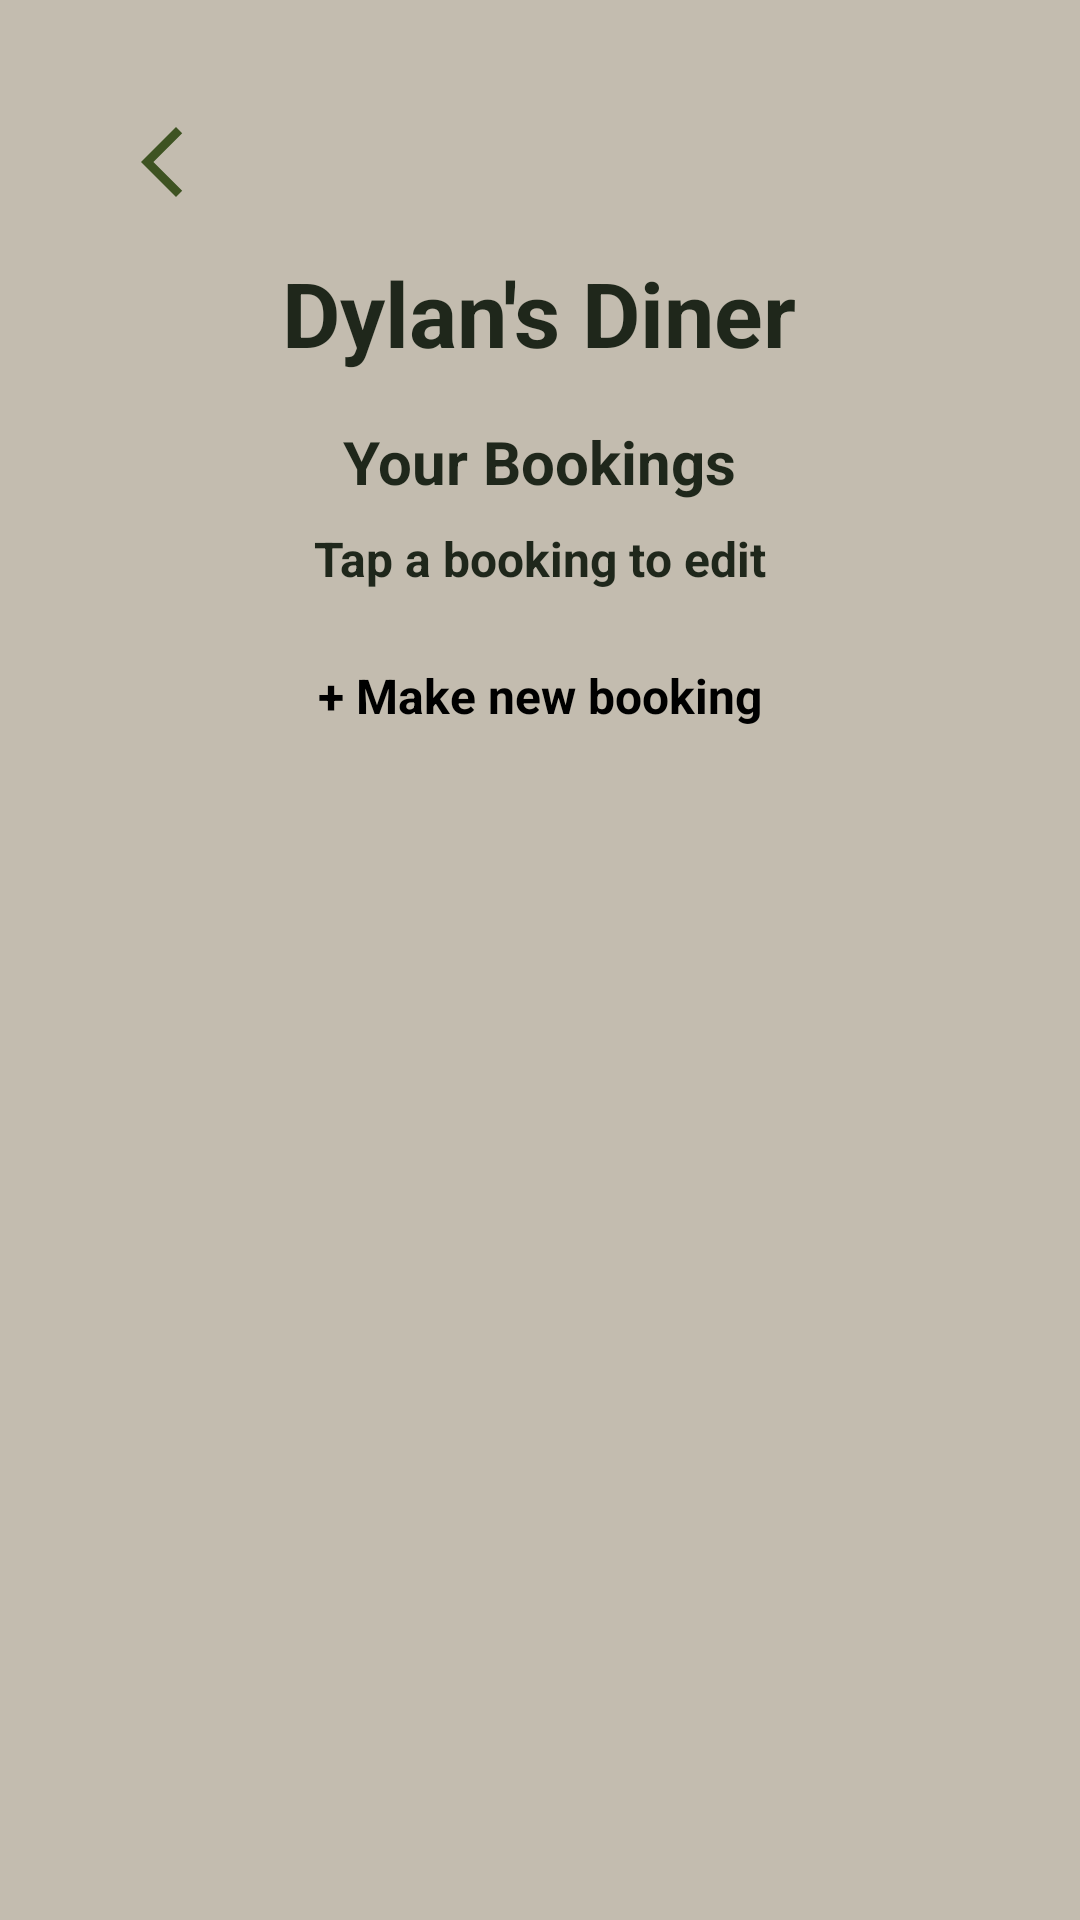

Named icons in this screenshot (1080x1920) and their bounding boxes, box(x1, y1, x2, y2):
Back: box(141, 127, 182, 197)
